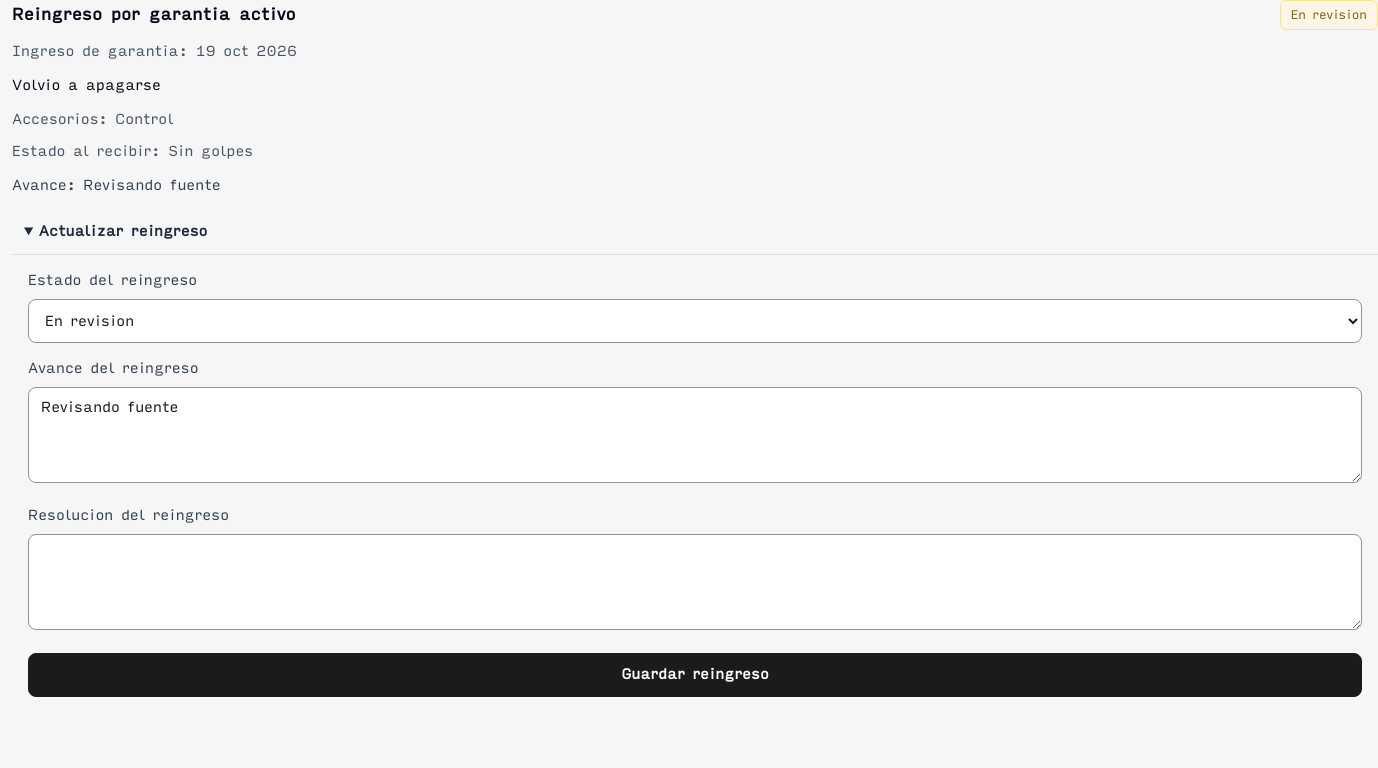
Test: separate technical cycle › requires an explicit pickup confirmation and recipient only when returning the equipment
The image size is (1378, 768).
Expected: the field labelled "Quien retira" is not shown
Select "Retirado por cliente" in the dropdown labelled "Estado del reingreso" at (695, 321), box [28,299,1362,343]
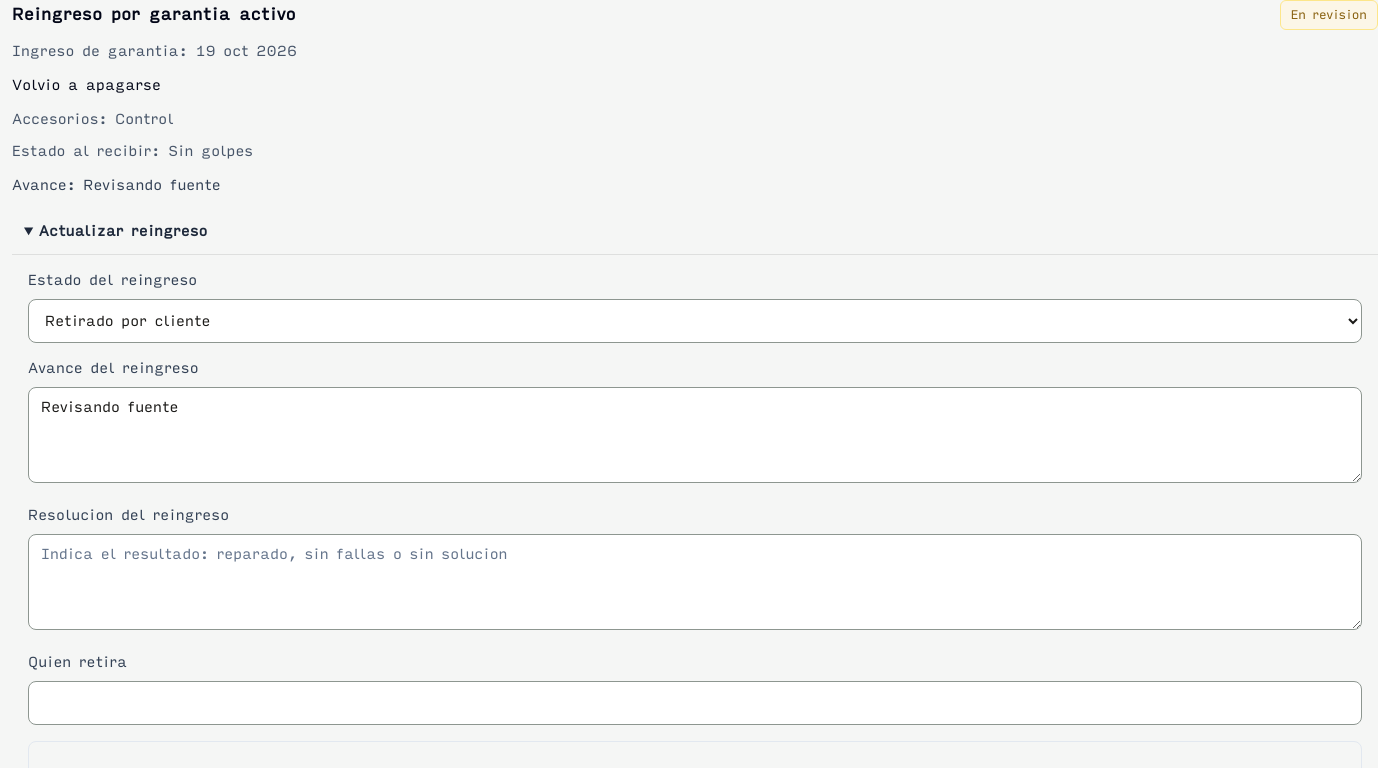
Select "No presenta fallas" in the dropdown labelled "Estado del reingreso" at (695, 321), box [28,299,1362,343]
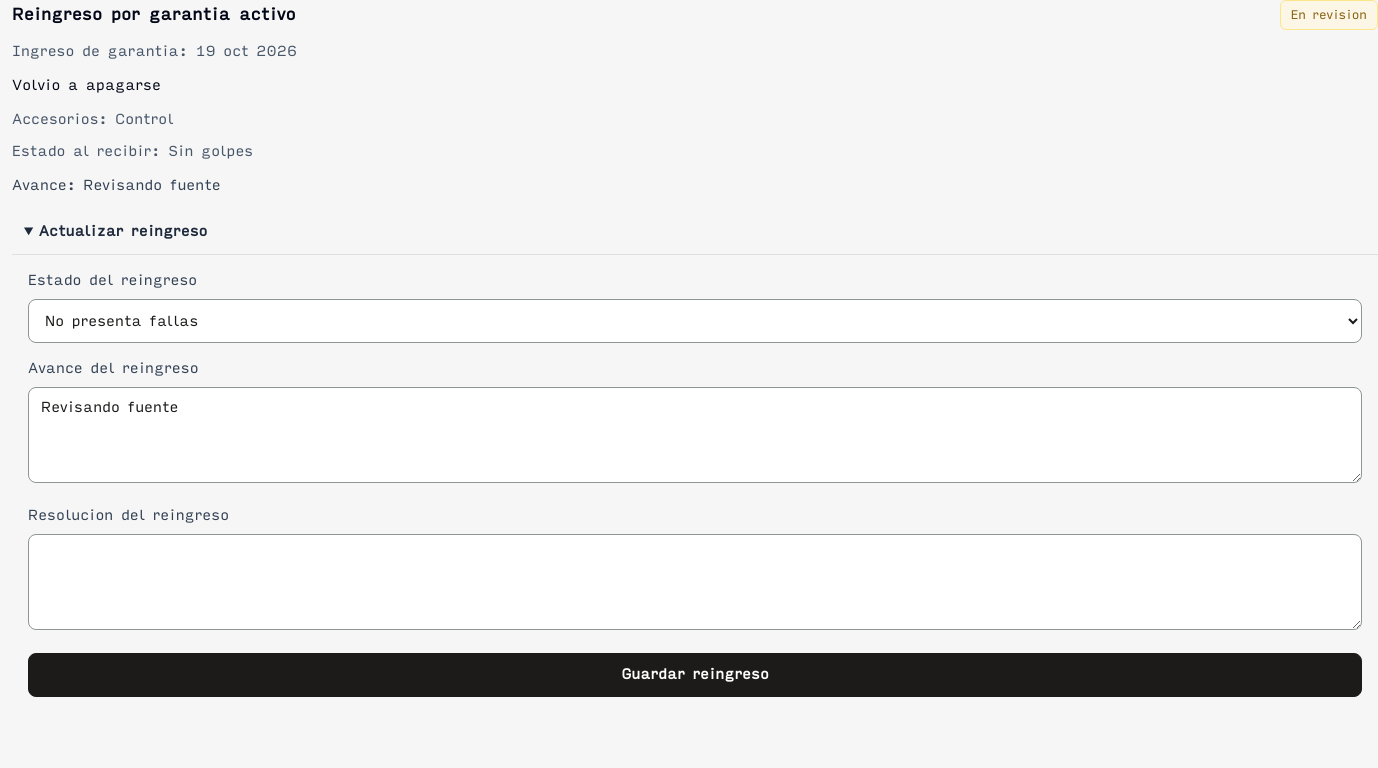
Result: the label labelled "Quien retira" is gone
